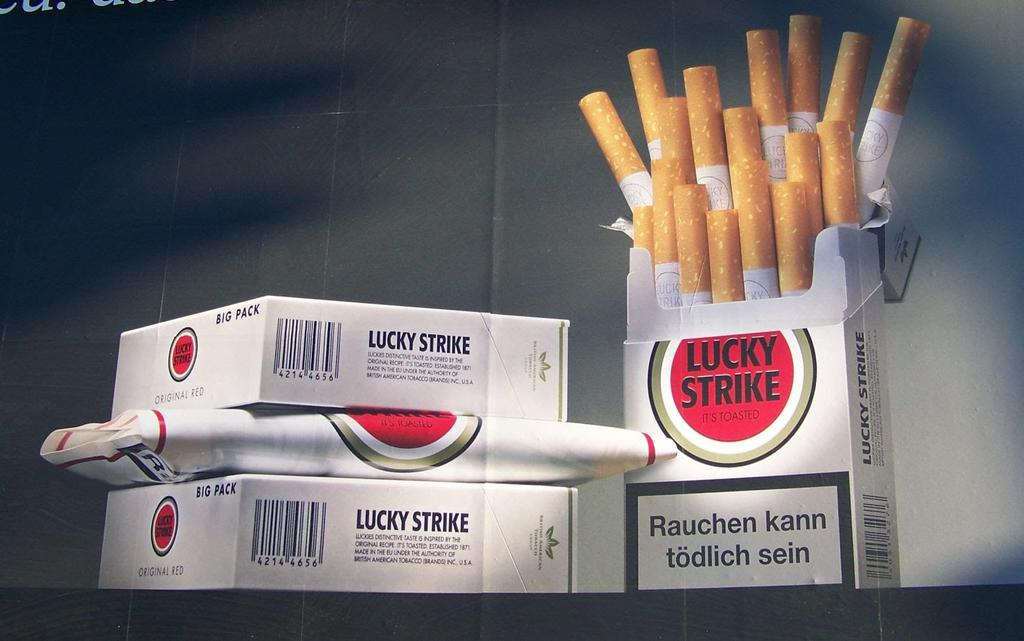lucky_strike_red: (627, 285, 853, 588)
